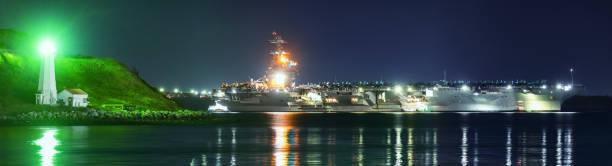MIL_Ship: (215, 31, 584, 113)
